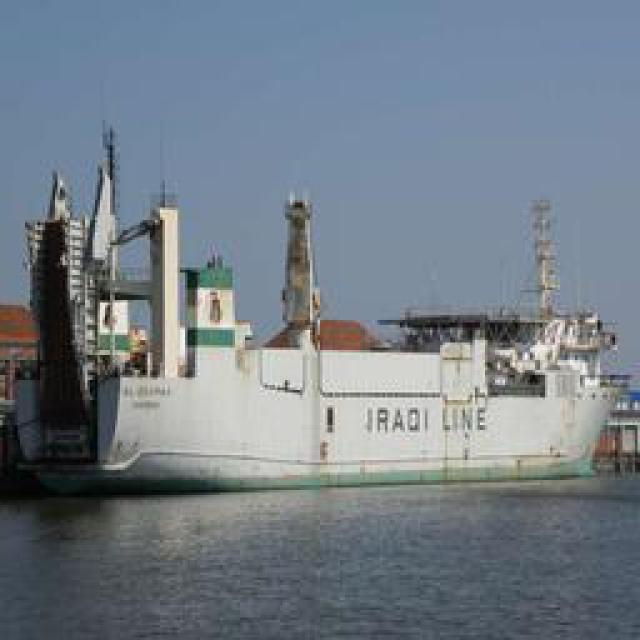Ship: (10, 136, 628, 496)
